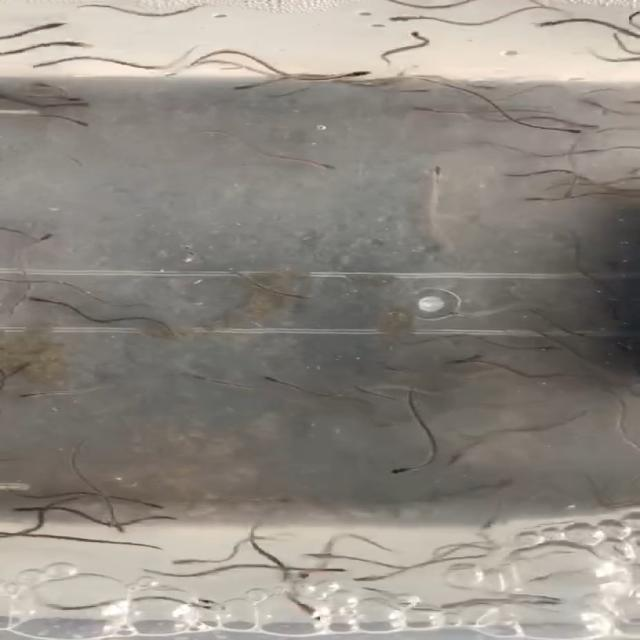active_glass_eel: (250, 367, 311, 394), (507, 186, 557, 218), (289, 539, 350, 563), (428, 457, 492, 478), (356, 572, 404, 598), (185, 593, 228, 620), (191, 374, 249, 394), (60, 85, 104, 111), (376, 458, 421, 482), (331, 60, 382, 80), (307, 560, 363, 578), (32, 57, 73, 81), (64, 153, 100, 179), (390, 100, 441, 118), (308, 150, 343, 176), (135, 494, 172, 517), (544, 120, 590, 138), (405, 156, 448, 175), (370, 5, 412, 24), (432, 352, 480, 368), (58, 116, 102, 133), (10, 500, 44, 521), (52, 39, 96, 54), (161, 553, 201, 569), (530, 16, 563, 34), (283, 285, 312, 305), (109, 518, 138, 538), (42, 20, 86, 32), (396, 29, 434, 42), (39, 228, 63, 248), (21, 292, 57, 304), (20, 388, 45, 405)
